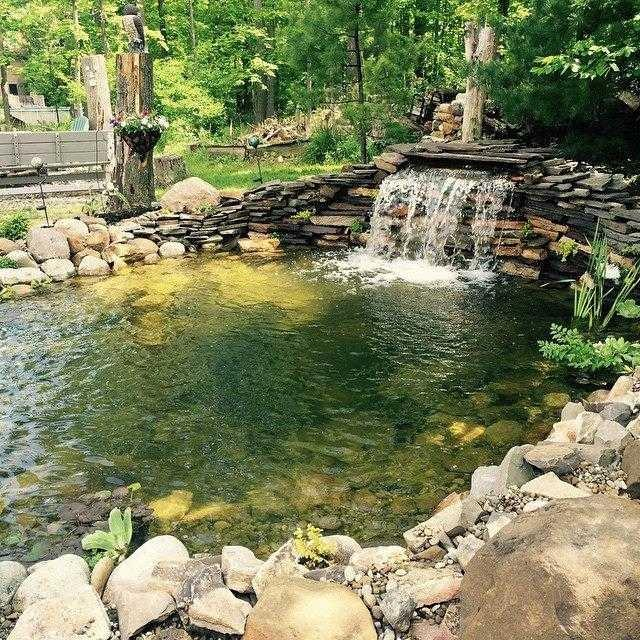Ponds: (1, 136, 640, 640)
